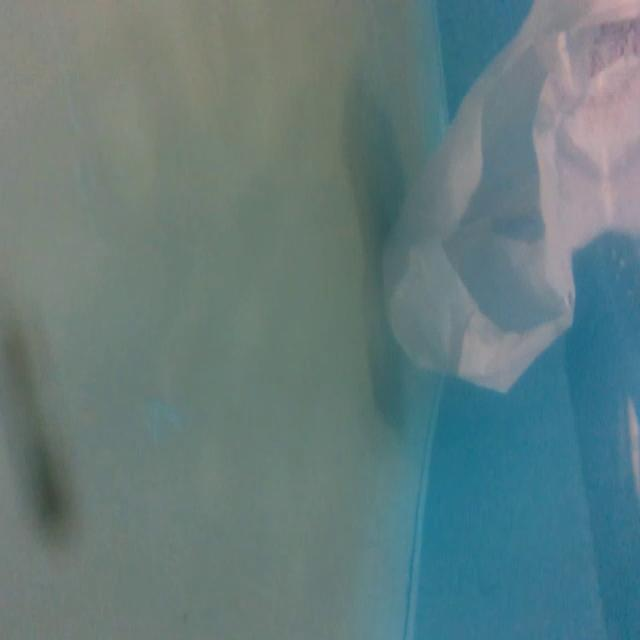plastic bags: (377, 1, 640, 404)
